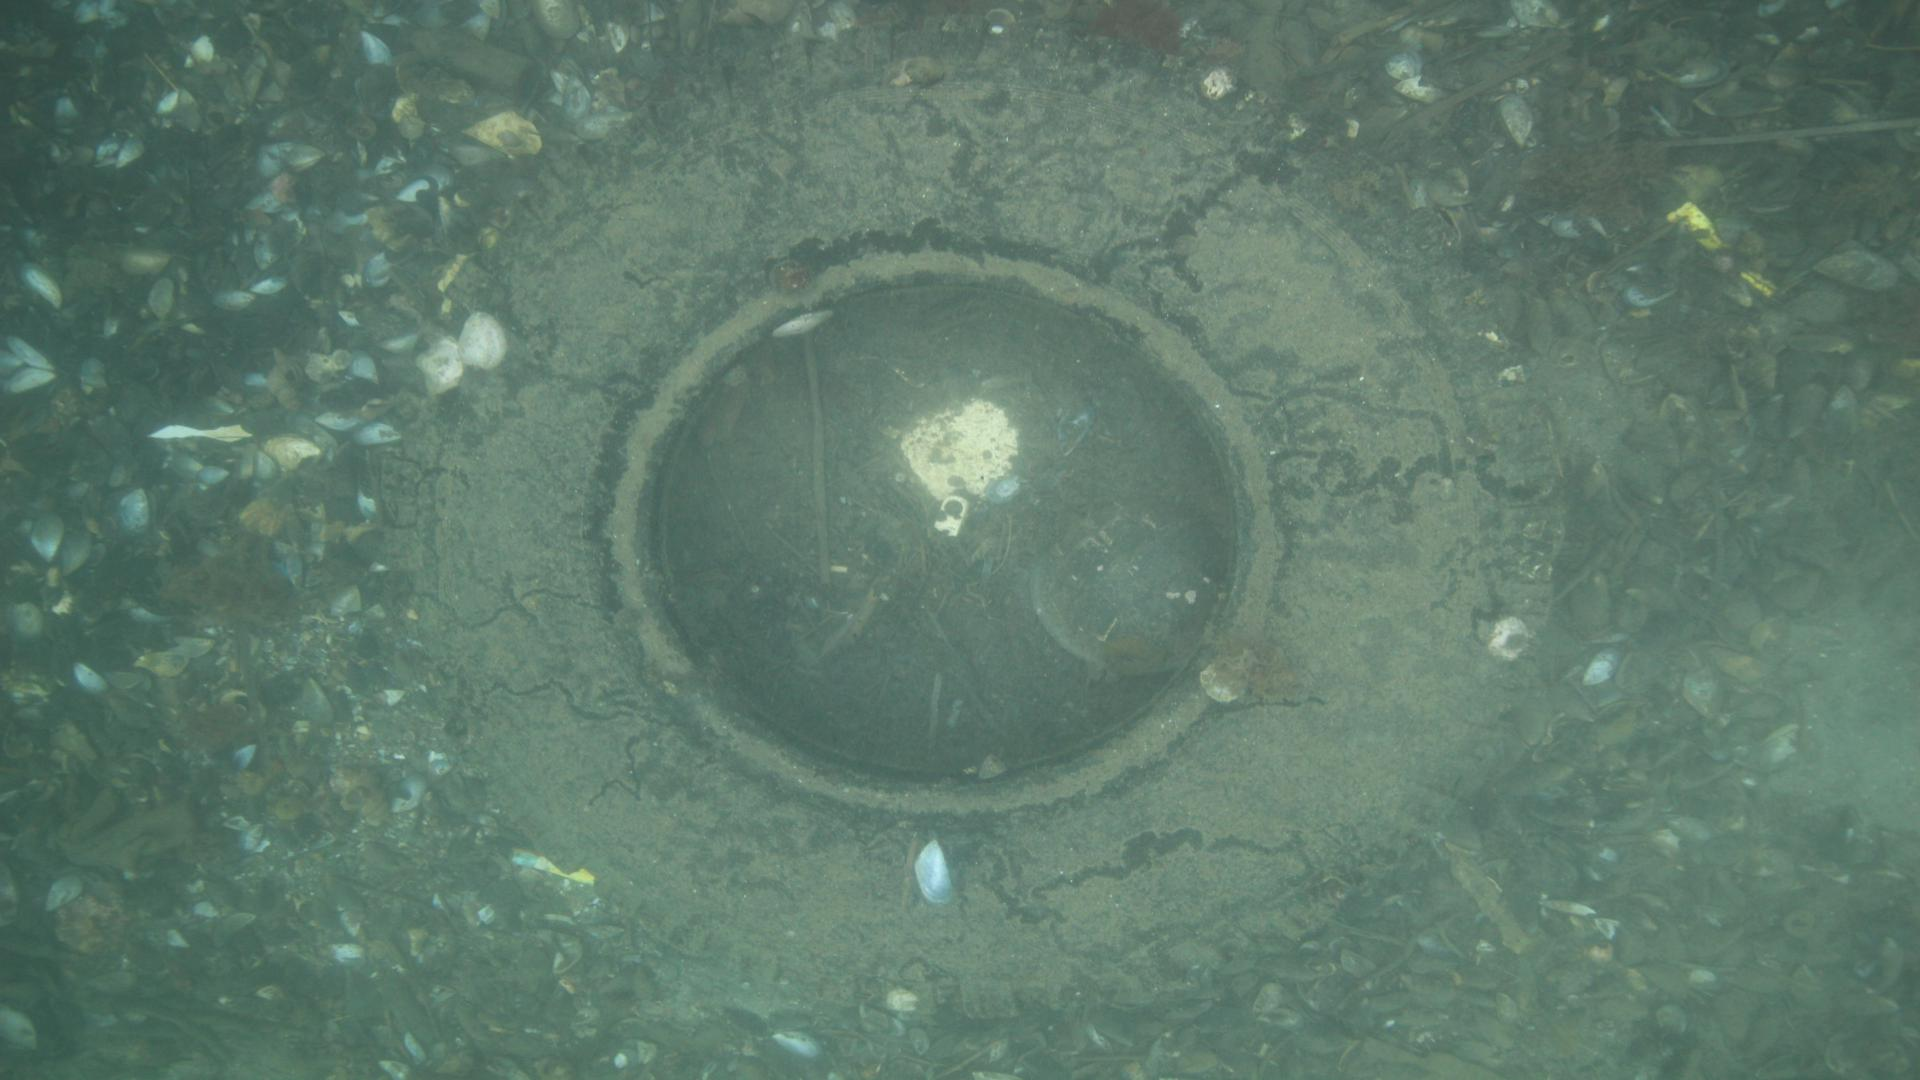tire: (392, 76, 1569, 1021)
